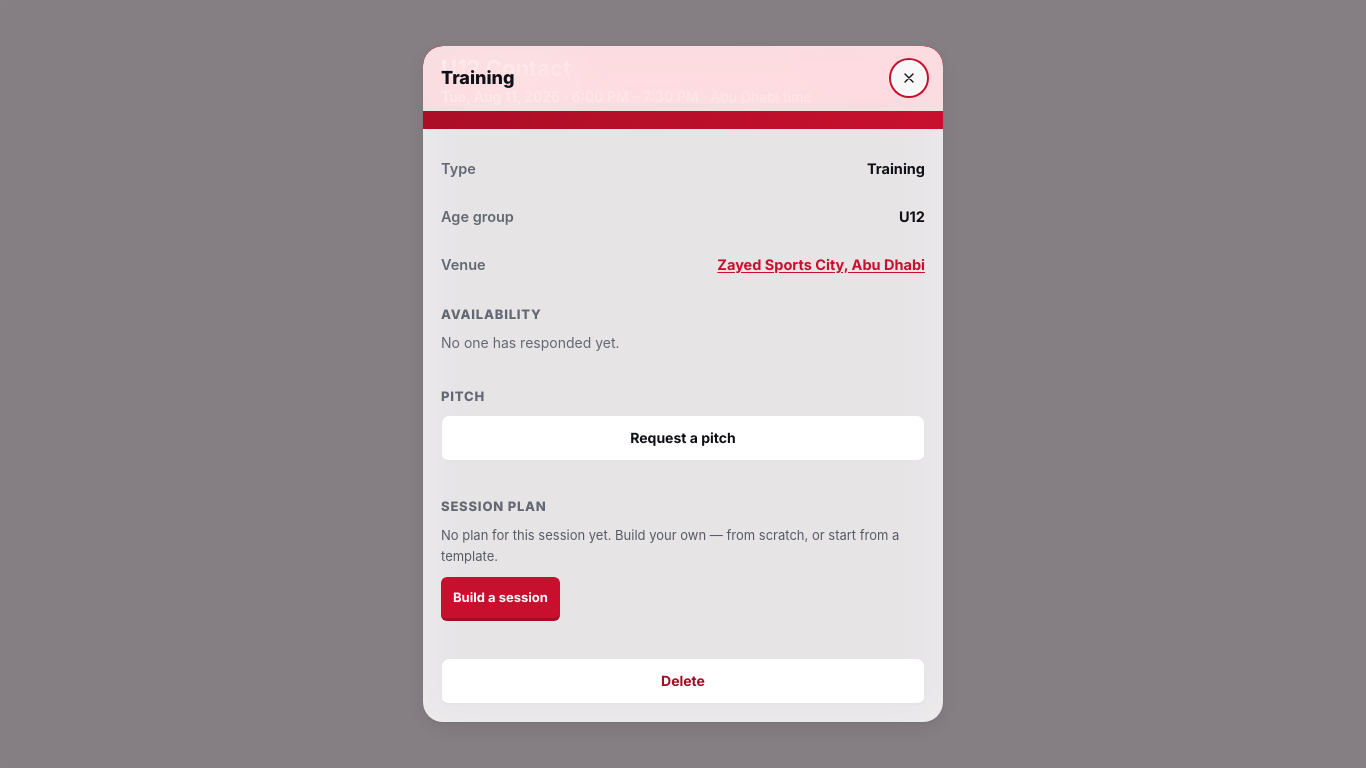
Test: deleting an occurrence of a series › offers two destructive choices, and names how many are going
This screenshot has width=1366, height=768.
(page scrolled)
Step 1. Click the button "Delete" → (683, 682), box [441,658,925,706]
(page scrolled)
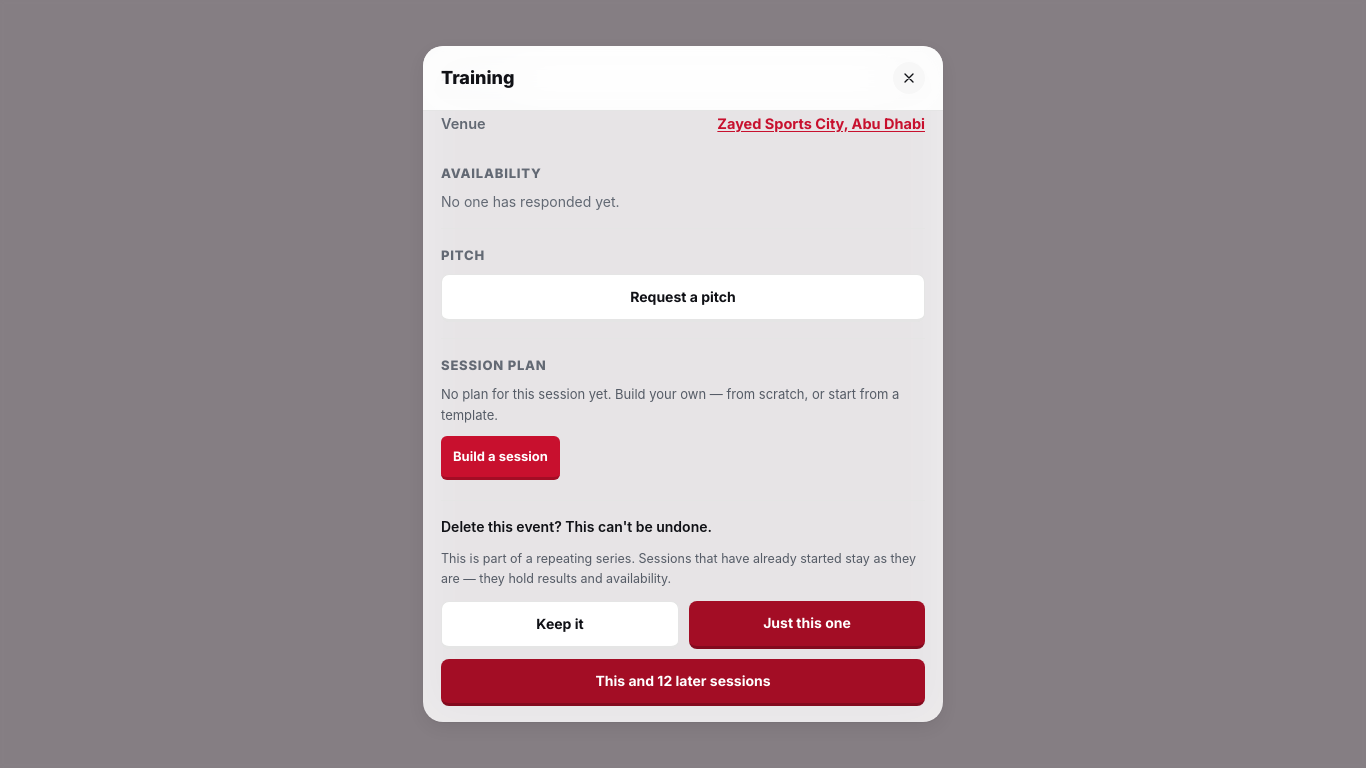
Expected: the button "Just this one" is shown, [689,601,925,649]
Expected: the button "This and 12 later sessions" is shown, [441,659,925,706]
Expected: the button "Keep it" is shown, [441,601,679,649]
